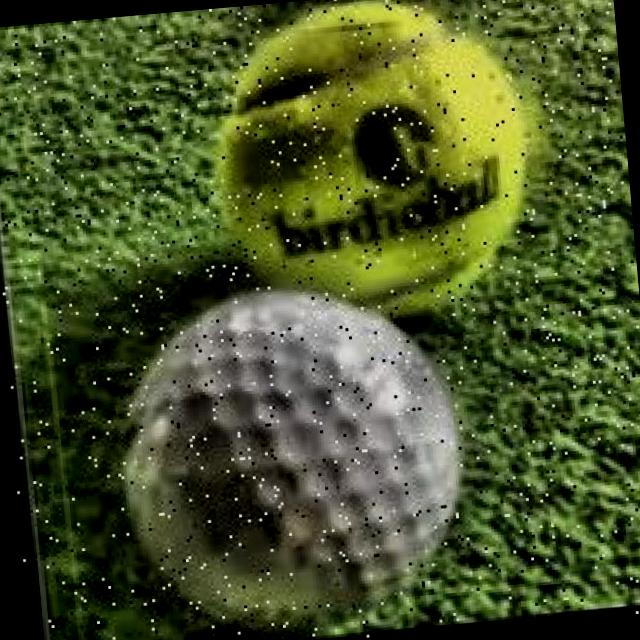Tennis Ball: (198, 0, 557, 327)
